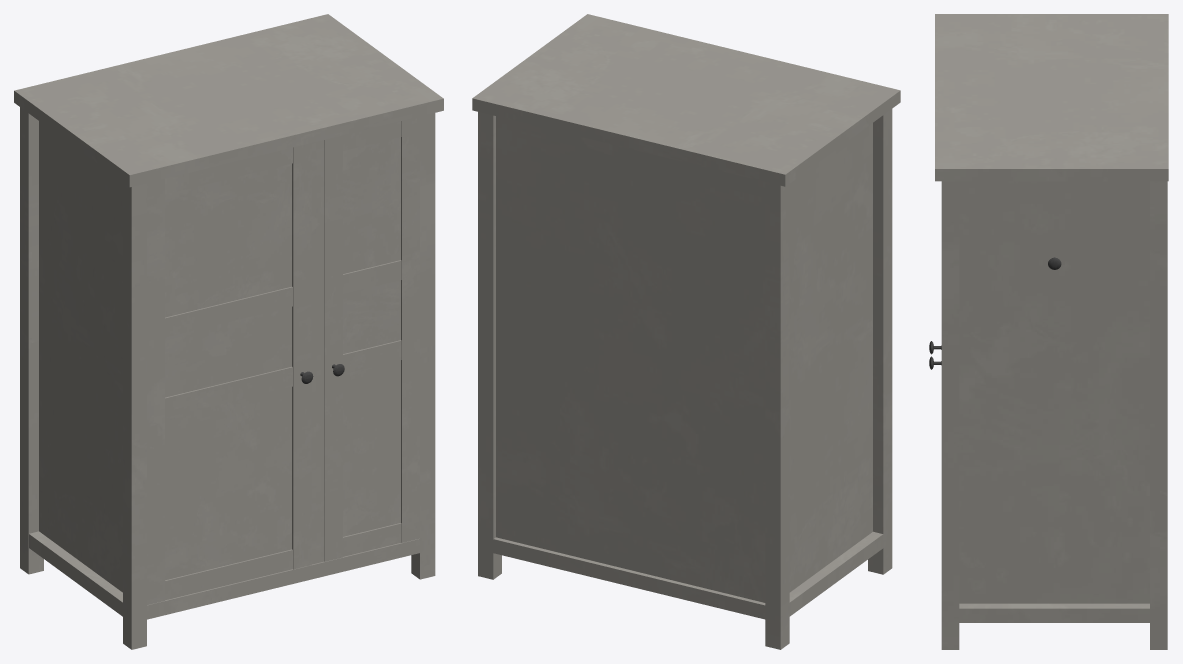
Rendered from wardrobe_1.glb.
The picture shows the model from 3 angles, left to right: view 1: azimuth 30°, elevation 25°; view 2: azimuth 150°, elevation 25°; view 3: azimuth 270°, elevation 25°; orthographic projection.
Visible parts, largest first — view 1: Cupboard.001, Door_L, Door_R; view 2: Cupboard.001; view 3: Cupboard.001.
Part boxes in pixels (x1,y1,x2,y2): Cupboard.001: (14,14,443,649); Door_L: (147,143,313,604); Door_R: (324,116,419,561); Cupboard.001: (472,14,900,649); Cupboard.001: (935,14,1168,649).
Size of the model in its own units: 1.42 by 2.06 by 0.9254.
Materials: 3 (1 with a texture image).
